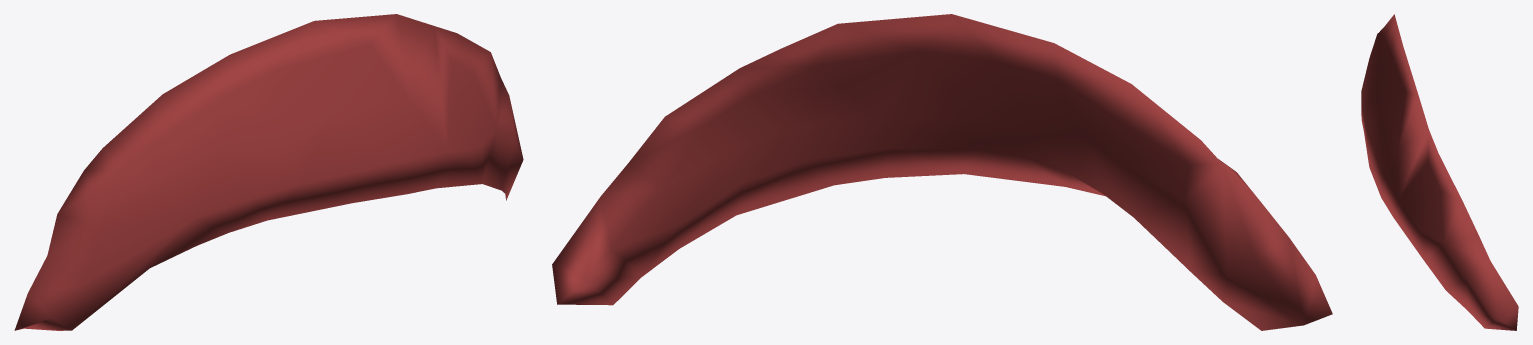
File: superior-tarsus-l.glb
3 renders of one model, left to right at view 1: azimuth 30°, elevation 25°; view 2: azimuth 150°, elevation 25°; view 3: azimuth 270°, elevation 25°, orthographic. The views are drawn at different scales.
Parts seen in each view (by area): view 1: Superior tarsus.l; view 2: Superior tarsus.l; view 3: Superior tarsus.l.
Part boxes in pixels (x1,y1,x2,y2): Superior tarsus.l: [14, 14, 523, 330]; Superior tarsus.l: [552, 14, 1332, 330]; Superior tarsus.l: [1361, 14, 1518, 330].
Size of the model in its own units: 0.0255 by 0.0114 by 0.00828.
